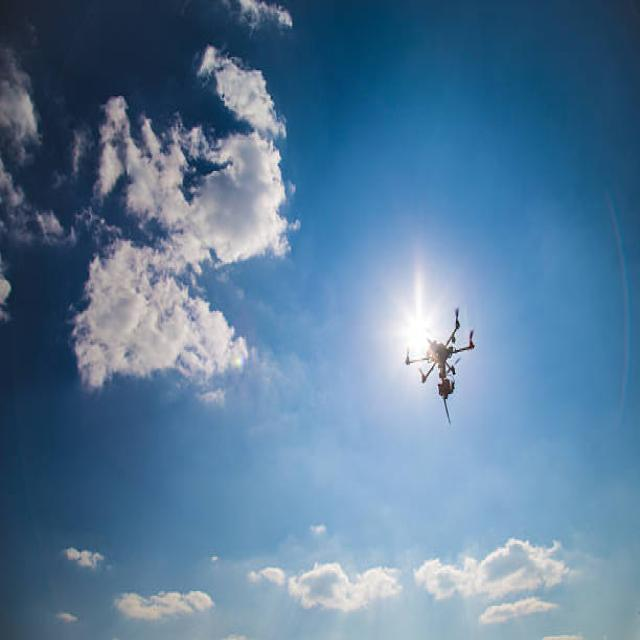drone: (404, 306, 474, 424)
